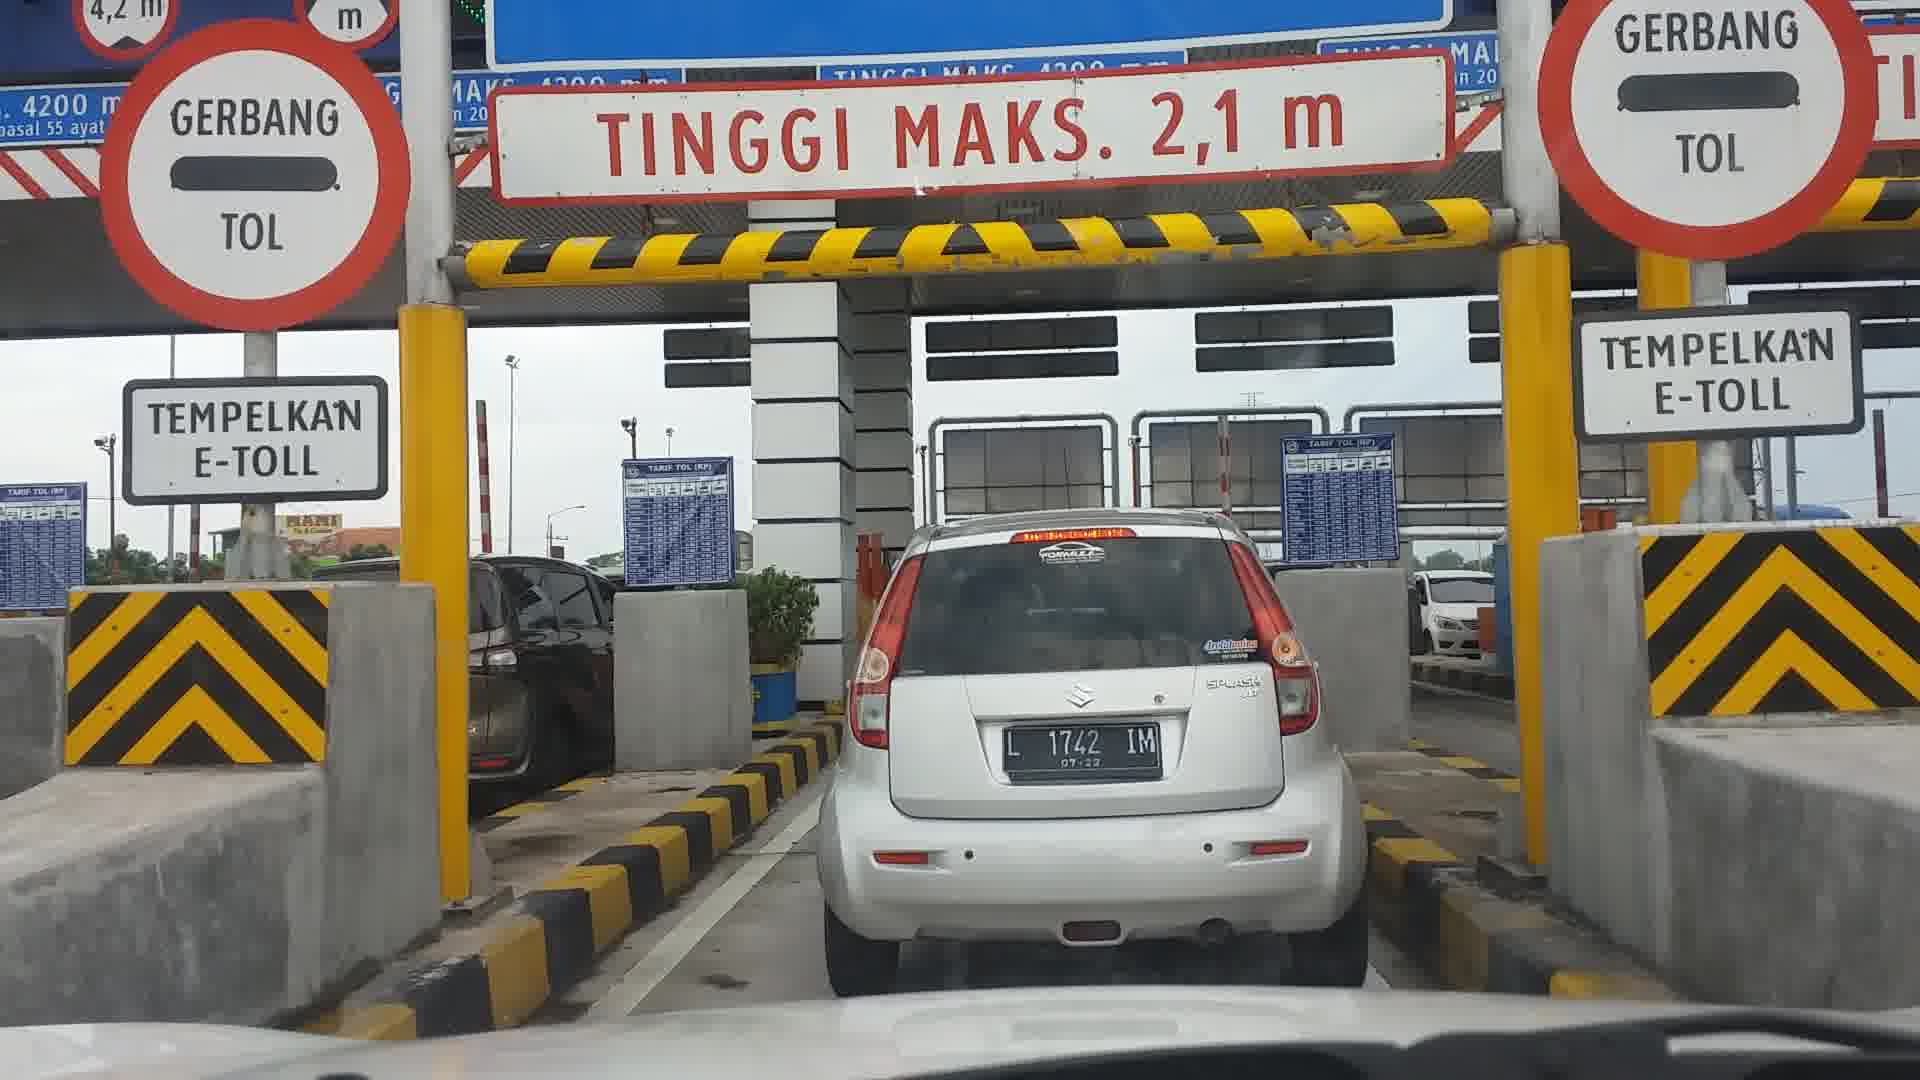plate_positive: (1004, 725, 1163, 783)
